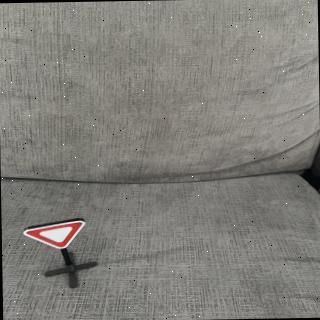sign_yield: (21, 219, 93, 253)
